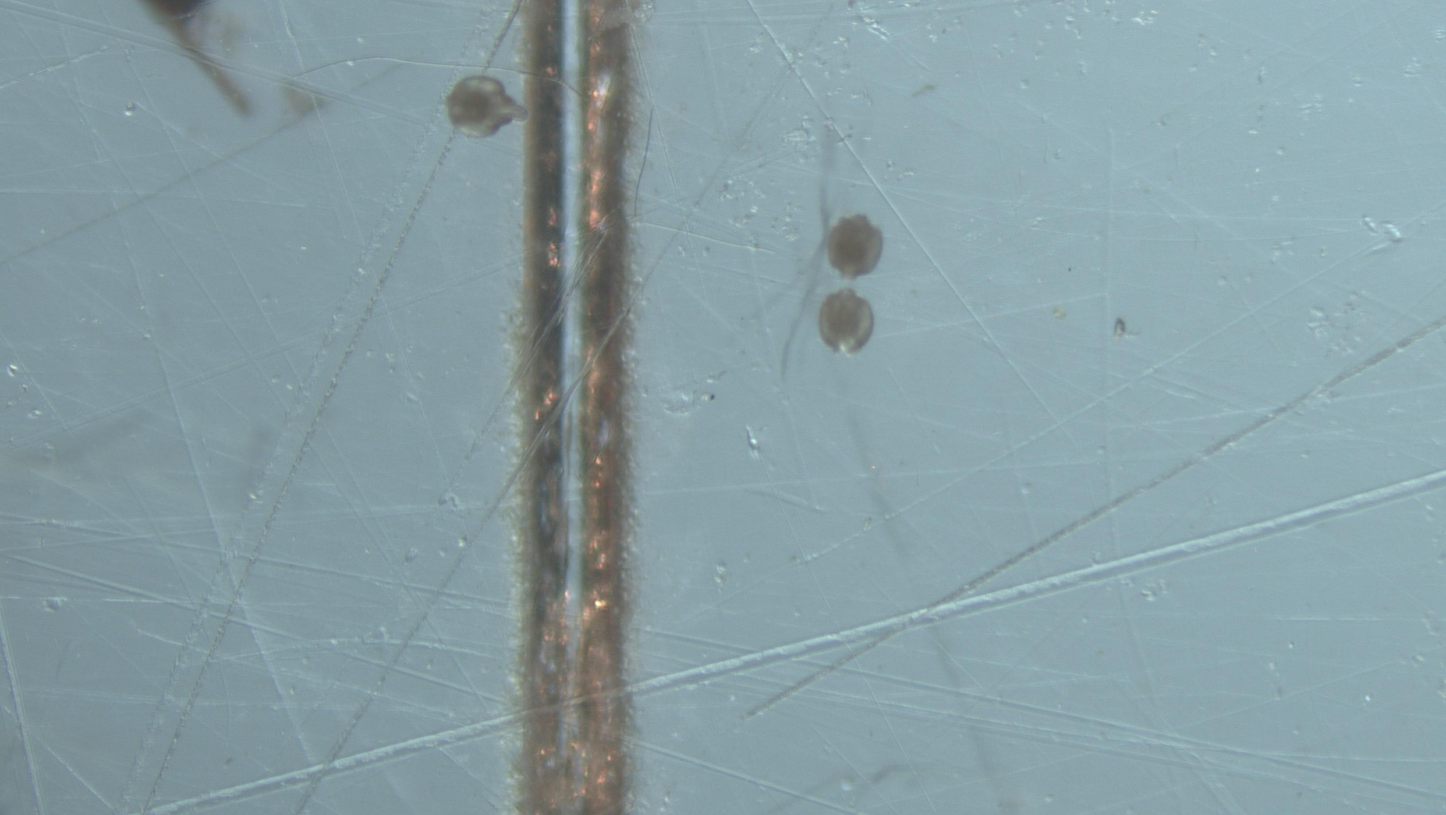live: (445, 76, 526, 137), (826, 214, 884, 280), (818, 289, 873, 356)
